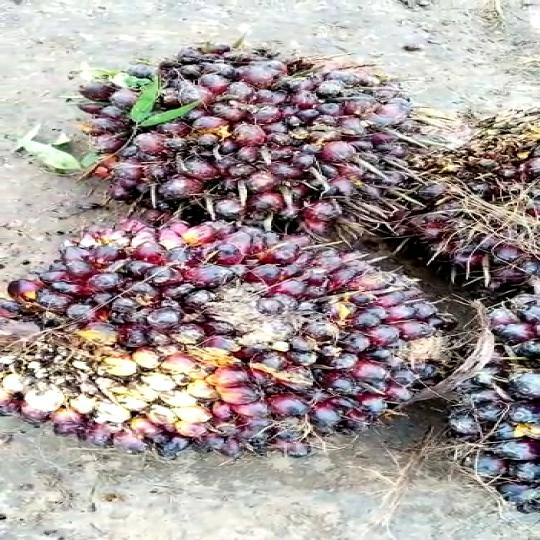kurang masak: (0, 210, 503, 474), (56, 11, 461, 270)
